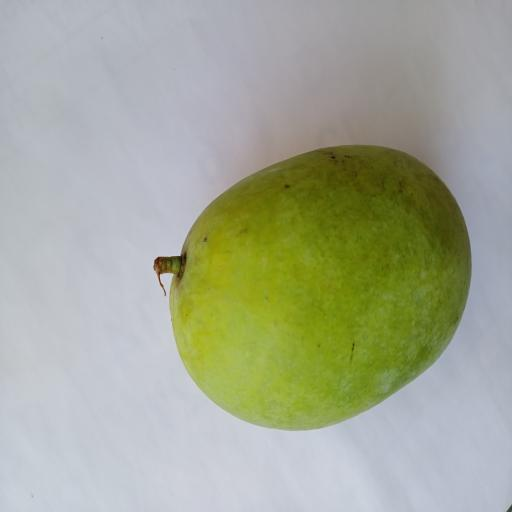mango-unripe: (130, 126, 483, 446)
